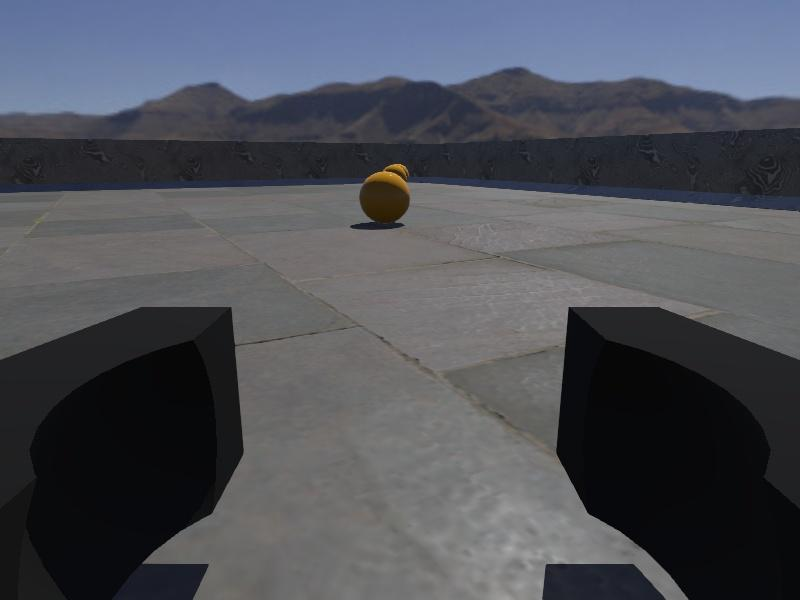orange ball: (358, 170, 412, 225)
